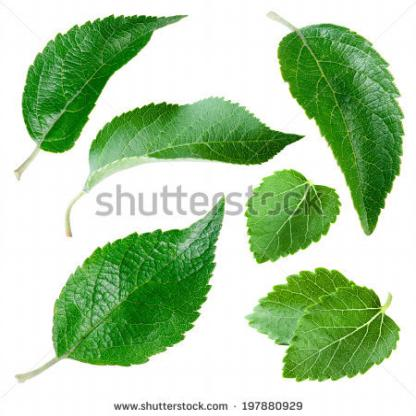Apple leaf: (51, 191, 231, 383), (265, 19, 415, 239), (16, 2, 144, 164), (240, 178, 343, 261)
